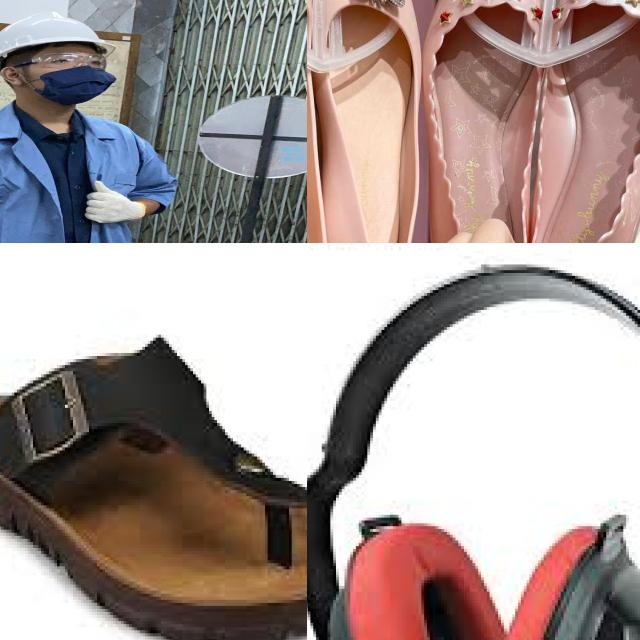Ear-protection: (469, 506, 640, 640), (322, 503, 487, 640)
Sandals: (0, 289, 307, 640), (405, 0, 640, 243), (307, 0, 429, 243)
face_mask: (24, 47, 120, 98)
glasses: (6, 49, 112, 71)
hand_glove: (76, 177, 156, 227)
head_helmet: (0, 9, 118, 59)
person: (0, 12, 165, 243)
